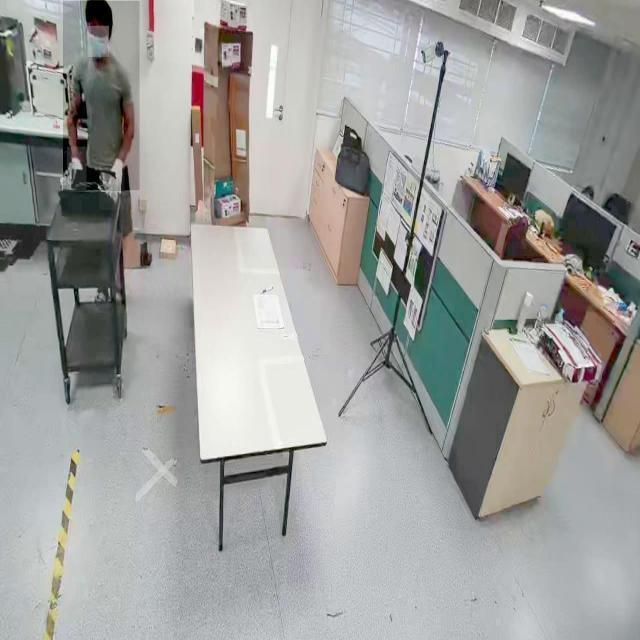gloves: (99, 151, 125, 211), (67, 147, 87, 193)
